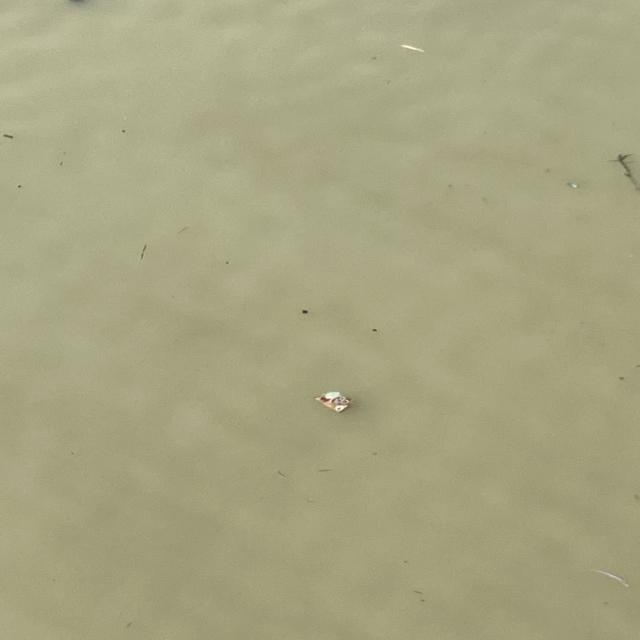Organic Debris: (607, 152, 640, 192), (133, 241, 156, 262), (0, 132, 16, 140), (219, 258, 234, 266), (617, 375, 630, 384), (370, 324, 380, 335), (13, 181, 24, 190), (298, 307, 310, 315), (55, 159, 66, 166), (118, 127, 128, 133)
Plastic: (310, 388, 356, 418), (398, 42, 426, 57), (564, 181, 581, 189)
